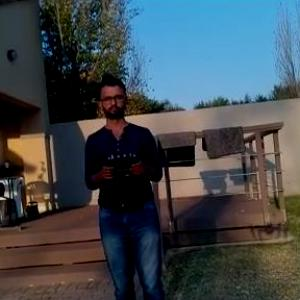follow: (82, 70, 170, 299)
